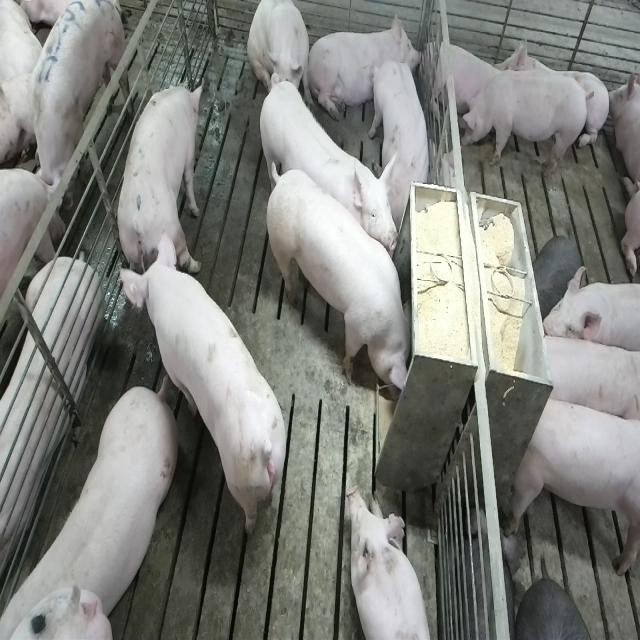Feeding: (270, 166, 421, 402)
Sitting: (247, 0, 311, 108)
Standing: (124, 242, 292, 545), (6, 376, 182, 634), (255, 76, 396, 260), (507, 389, 639, 583), (24, 0, 124, 221), (117, 80, 206, 288), (458, 65, 586, 178), (539, 331, 639, 428), (539, 267, 640, 357)
Sternal_lying: (346, 487, 434, 640), (499, 30, 608, 153), (312, 12, 421, 123), (426, 31, 500, 126), (608, 57, 640, 208)
